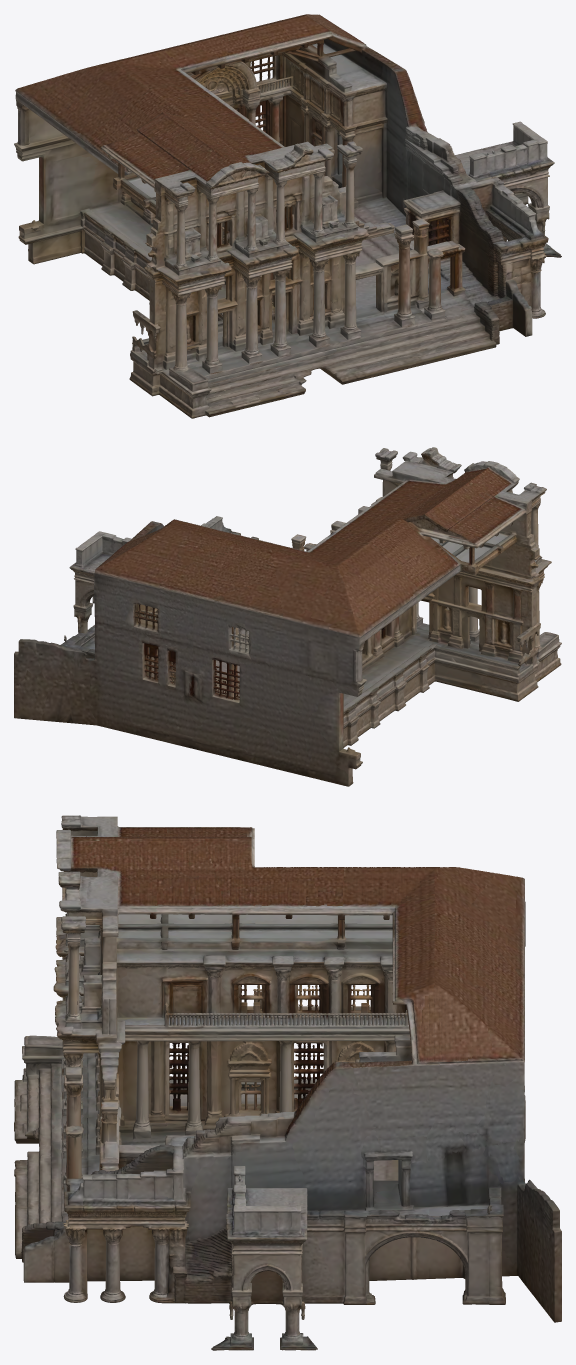
File: celsus_library.glb
3 renders of one model, top to bottom at view 1: azimuth 30°, elevation 25°; view 2: azimuth 150°, elevation 25°; view 3: azimuth 270°, elevation 25°, orthographic. The views are drawn at different scales.
Parts seen in each view (by area): view 1: tripo_node_82aa00a4-5853-4618-a417-49306a274f60; view 2: tripo_node_82aa00a4-5853-4618-a417-49306a274f60; view 3: tripo_node_82aa00a4-5853-4618-a417-49306a274f60.
Part boxes in pixels (x1,y1,x2,y2): tripo_node_82aa00a4-5853-4618-a417-49306a274f60: (14,14,561,418); tripo_node_82aa00a4-5853-4618-a417-49306a274f60: (14,447,561,786); tripo_node_82aa00a4-5853-4618-a417-49306a274f60: (14,815,561,1350).
Size of the model in its own units: 0.9812 by 0.4751 by 0.8271.
1 material, 1 textured.
